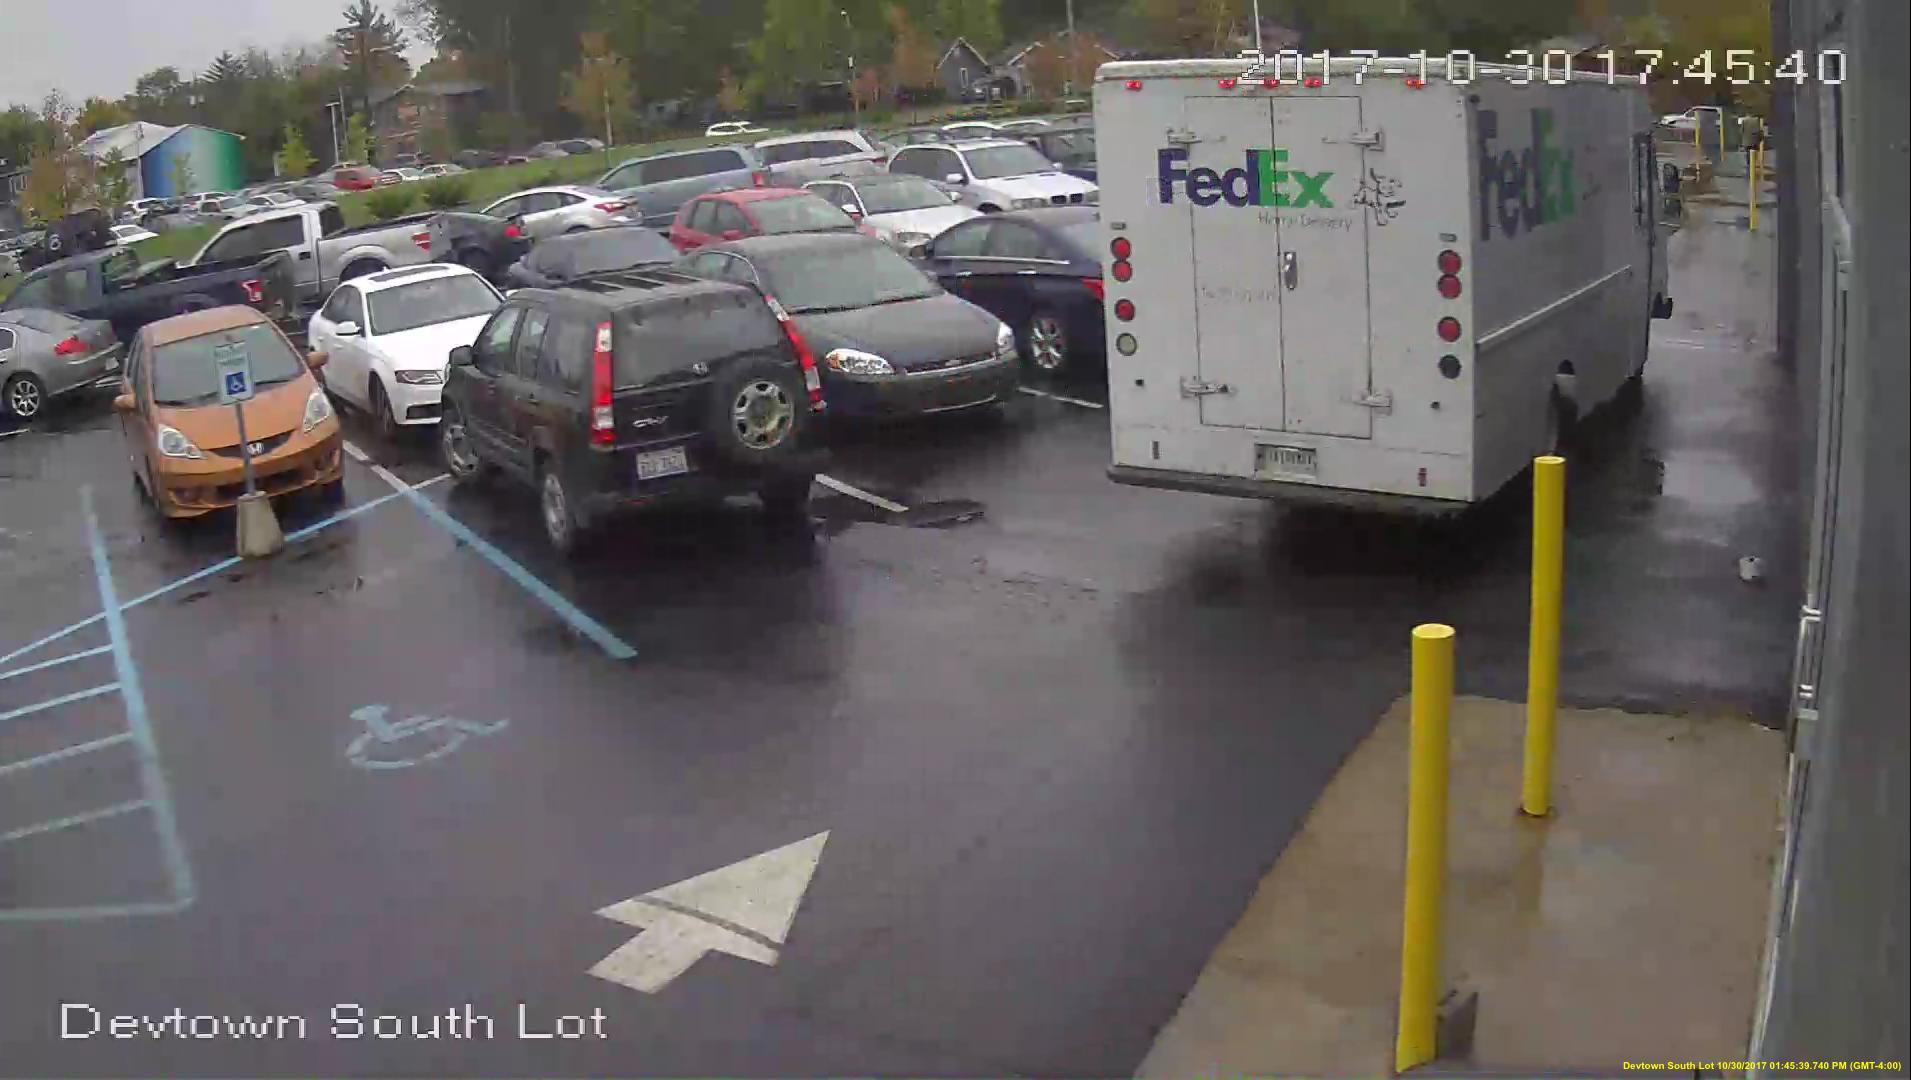fedex_truck: (1106, 58, 1667, 507)
